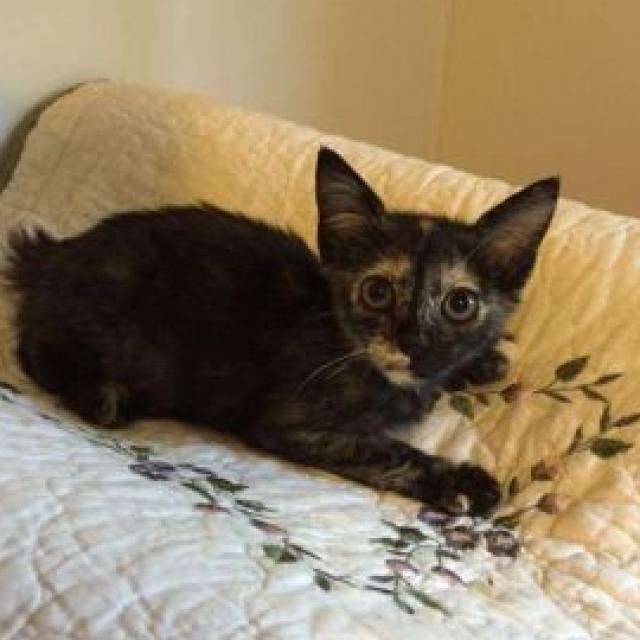American Bobtail: (0, 140, 567, 524)
